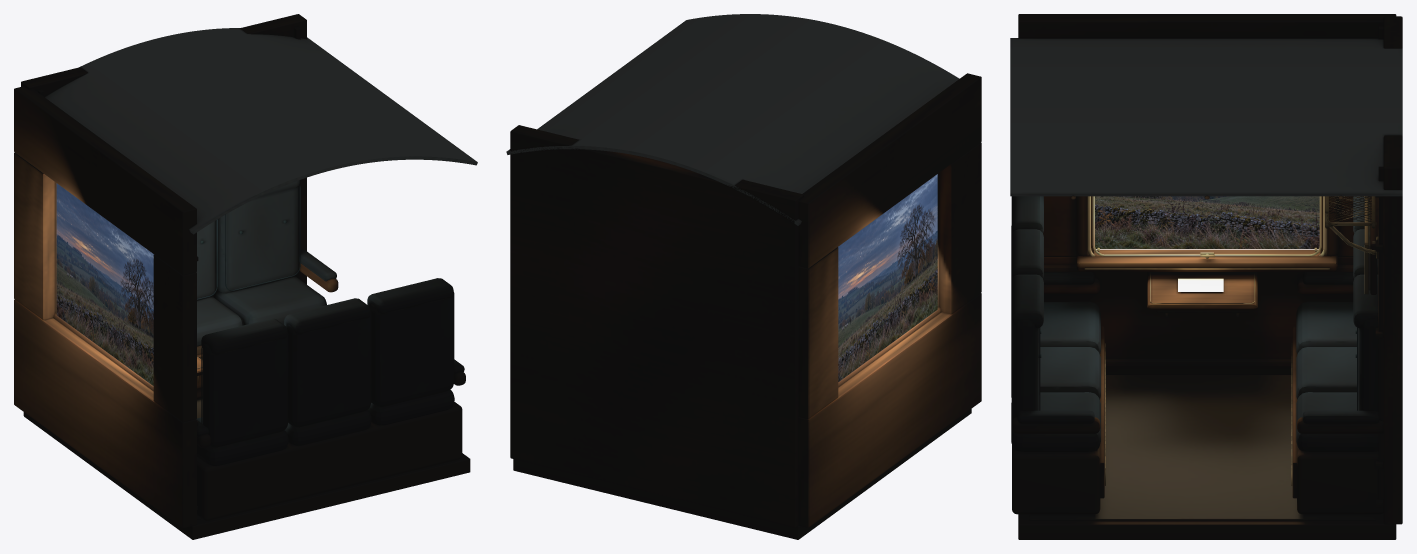
File: train-baked.glb
3 views of the same model, side by side, from view 1: azimuth 30°, elevation 25°; view 2: azimuth 150°, elevation 25°; view 3: azimuth 270°, elevation 25° (orthographic). The views are drawn at different scales.
Parts seen in each view (by area): view 1: 车厢烘焙模型, 窗外画面; view 2: 车厢烘焙模型, 窗外画面; view 3: 车厢烘焙模型, 窗外画面.
Boxes of the visible parts, left/top/right/bottom form: 车厢烘焙模型: left=14, top=14, right=477, bottom=539; 窗外画面: left=56, top=183, right=153, bottom=385; 车厢烘焙模型: left=506, top=14, right=981, bottom=539; 窗外画面: left=838, top=174, right=937, bottom=381; 车厢烘焙模型: left=1010, top=14, right=1402, bottom=539; 窗外画面: left=1095, top=196, right=1319, bottom=248.
Size of the model in its own units: 2.39 by 2.69 by 2.49.
Materials: 3 (2 with a texture image).
